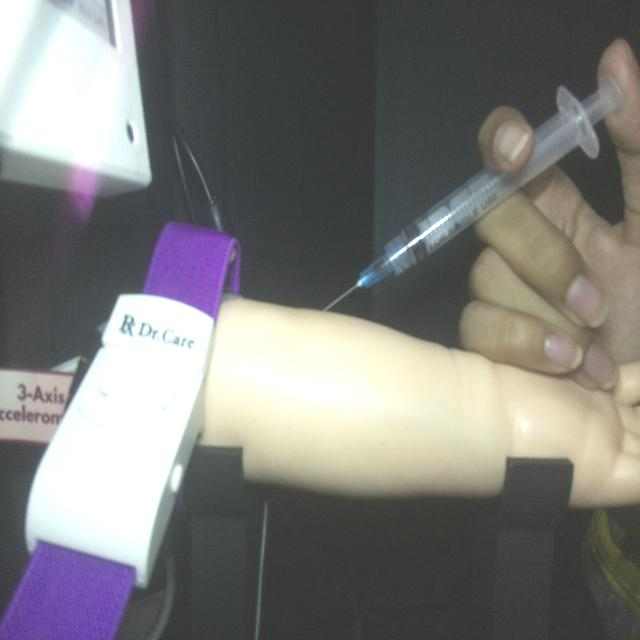28 degrees: (321, 71, 624, 313)
